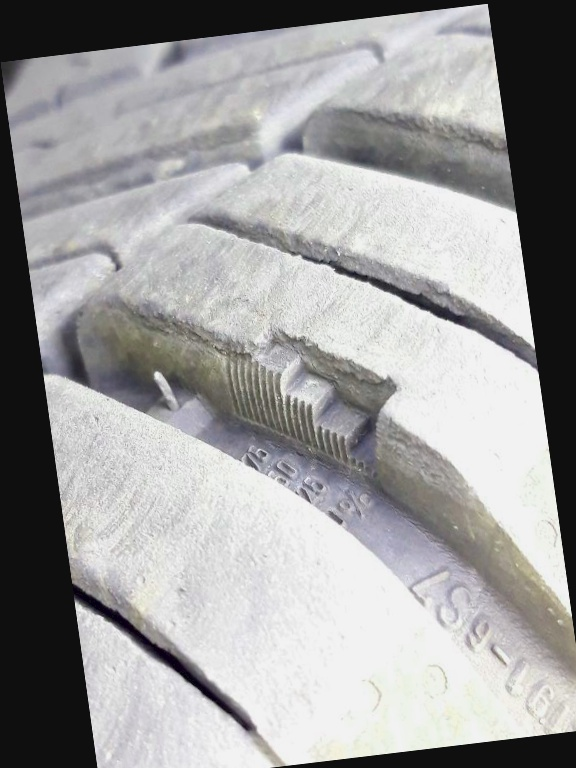temoin:80: (208, 290, 421, 506)
